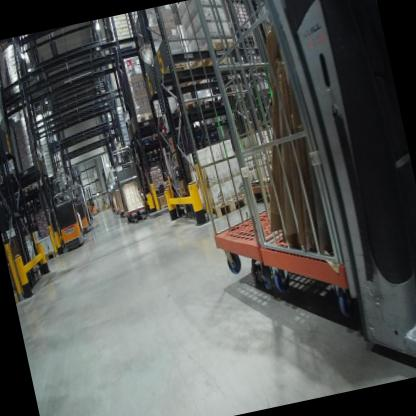pallet: (188, 34, 246, 78), (192, 188, 253, 227), (157, 58, 196, 94), (2, 91, 28, 119), (175, 95, 206, 116), (134, 112, 158, 128), (28, 262, 44, 283), (151, 129, 171, 144), (38, 247, 58, 262), (30, 179, 50, 193), (32, 189, 49, 204), (135, 134, 154, 147), (17, 183, 32, 194), (23, 199, 34, 210)
pallet_truck: (107, 140, 150, 230), (46, 172, 86, 254), (64, 175, 93, 237), (78, 184, 95, 221), (84, 180, 99, 216)
